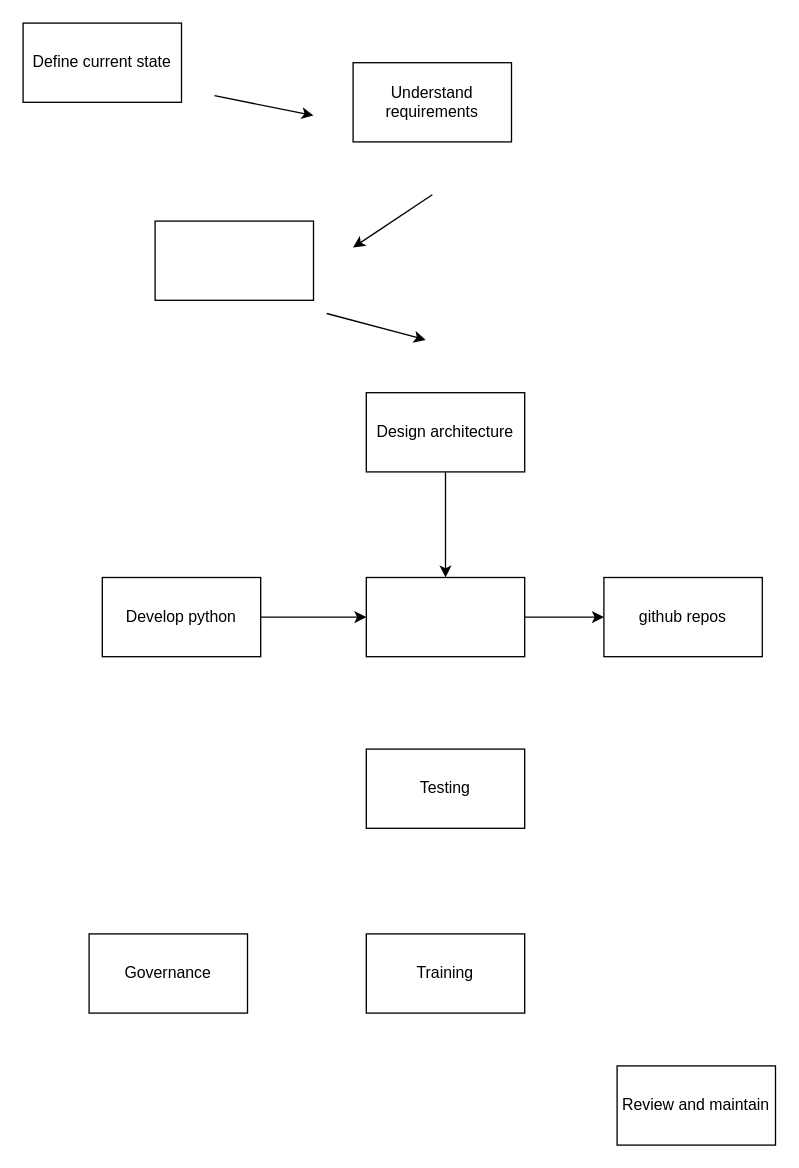
Image size: 799x1168. Some labels were removed from this diagram. The centre of each missing label's shape, as x and y in pixels:
azure devops: point (445, 616)
Define future state: point (234, 260)
